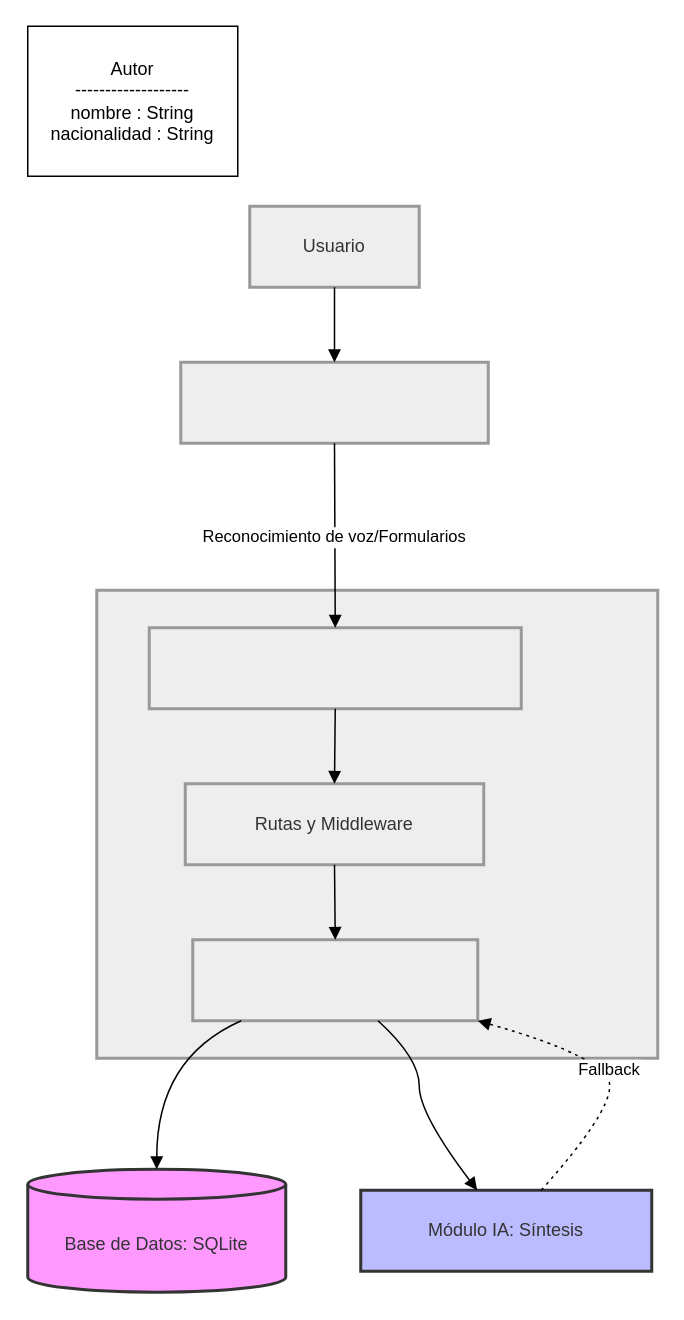
This 684x1320 diagram has some shape labels left out. Here are the shapes that lost their labels. From the top down, the centre of each, then its label:
At pixel 333 402: "Frontend: Vistas EJS".
At pixel 334 668: "Backend: Servidor Express".
At pixel 334 980: "Lógica de Negocio".
